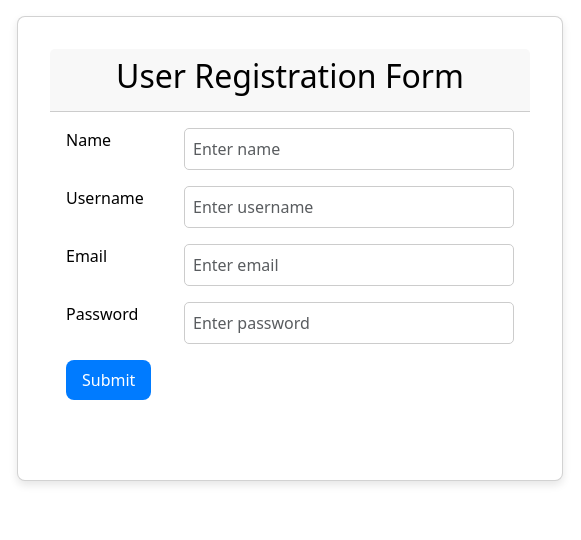
it: RegisterComponent › displays error message when registration fails due to role assignment
This screenshot has width=581, height=540.
Note: Fill in the form fields
Type "Alice" into the field with placeholder "Enter name" at (349, 149), box [184,128,514,170]
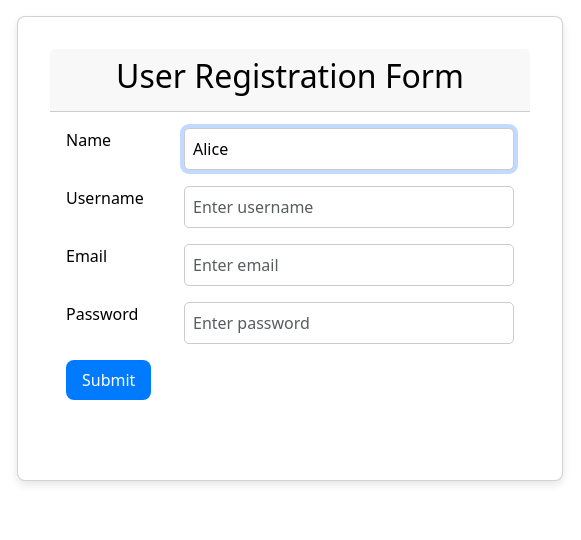
Type "alice" into the field with placeholder "Enter username" at (349, 207), box [184,186,514,228]
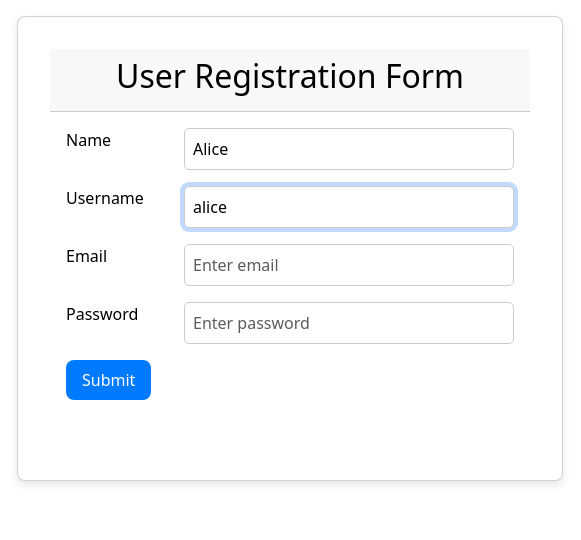
Type "alice@example.com" into the field with placeholder "Enter email" at (349, 265), box [184,244,514,286]
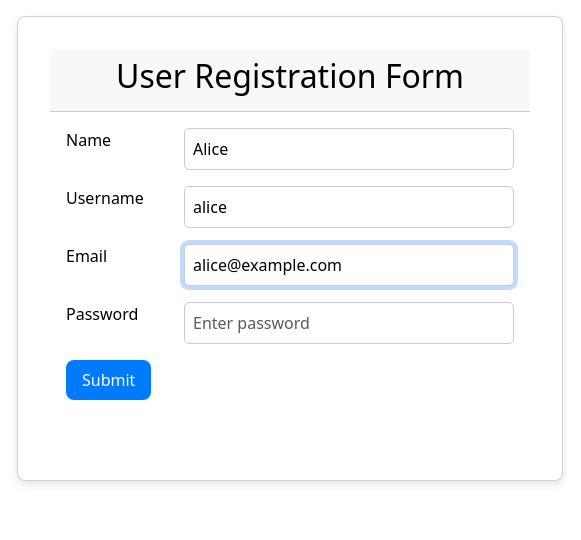
Type "password123" into the password field with placeholder "Enter password" at (349, 323), box [184,302,514,344]
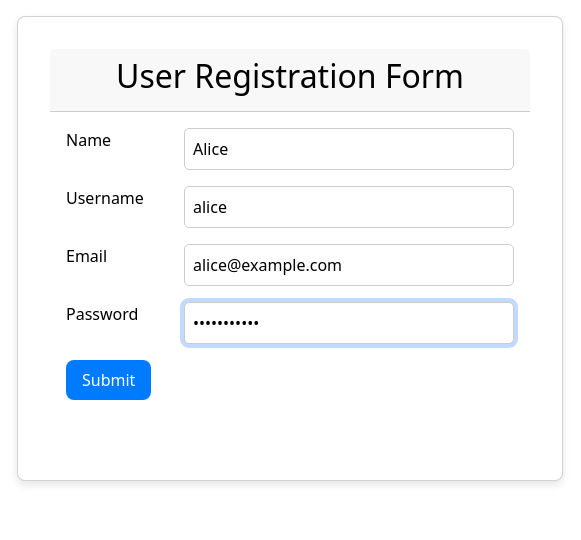
Click the button "Submit" at (109, 380), box [66,360,151,400]
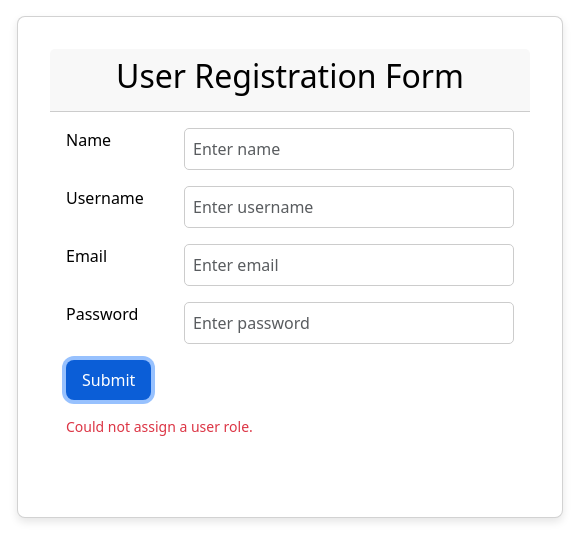
Result: the text "Could not assign a user role." is shown at [66,417,253,436]
Result: the field with placeholder "Enter name" is empty at [184,128,514,170]
Result: the field with placeholder "Enter username" is empty at [184,186,514,228]
